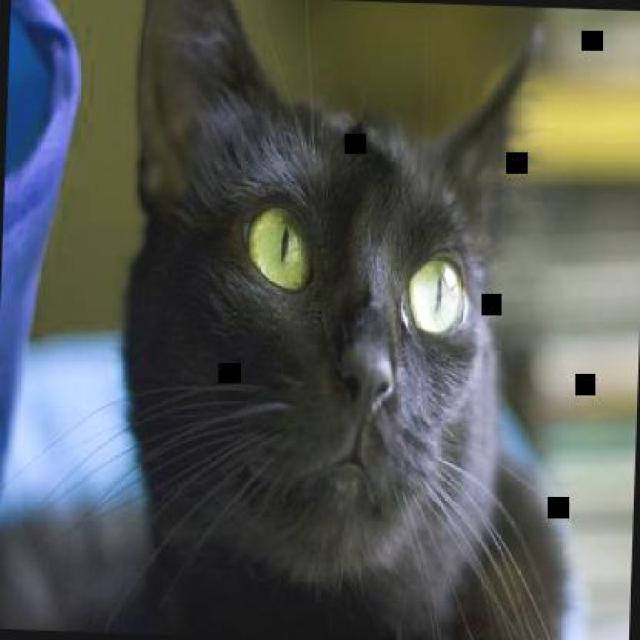cat: (112, 0, 587, 638)
